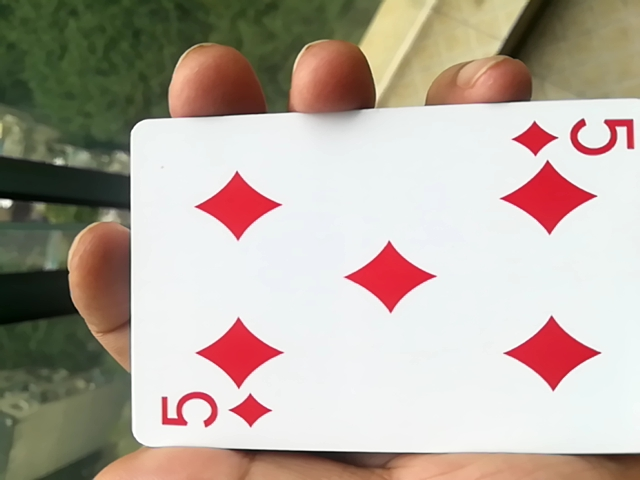fk 5: (120, 106, 636, 470)
